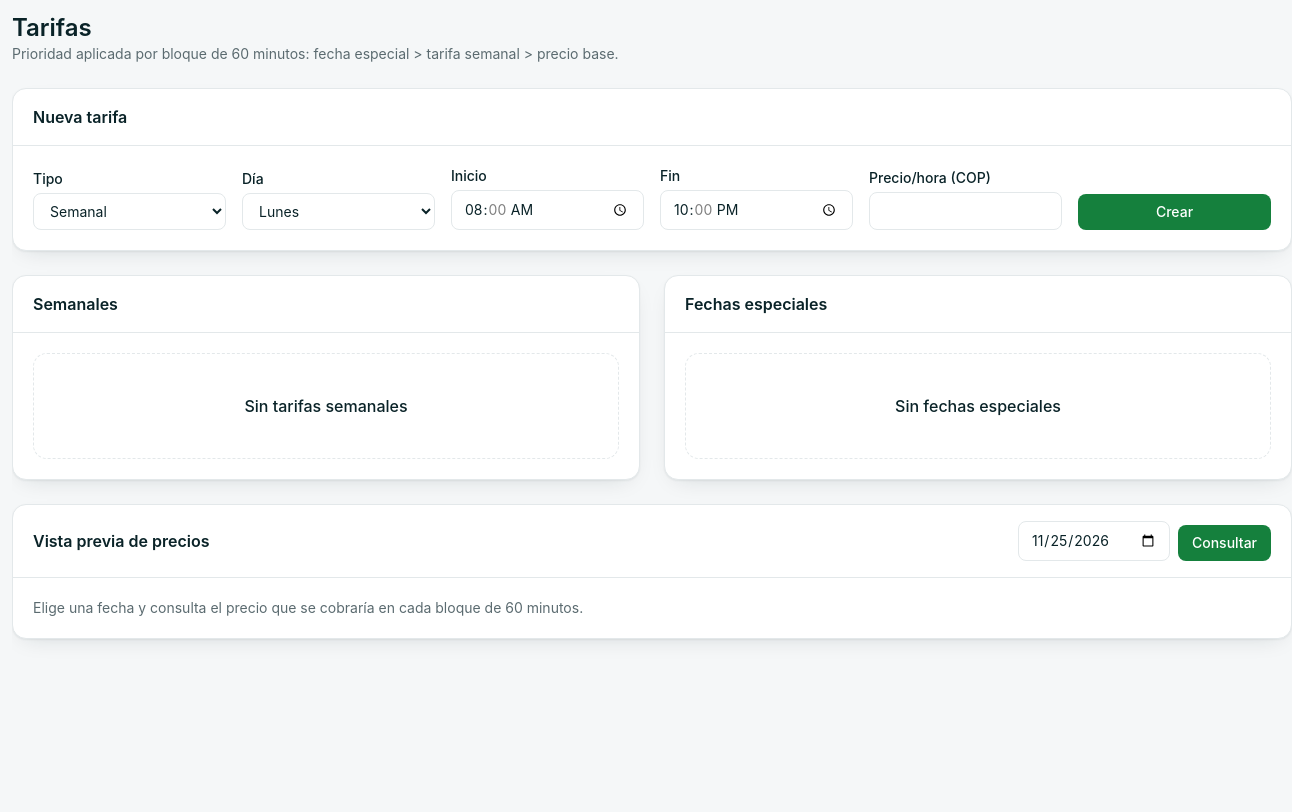
Test: TarifasPage › muestra la vista previa con el origen del precio
Click the button "Consultar".
click(1224, 543)  # box 1178,525 -> 1271,561
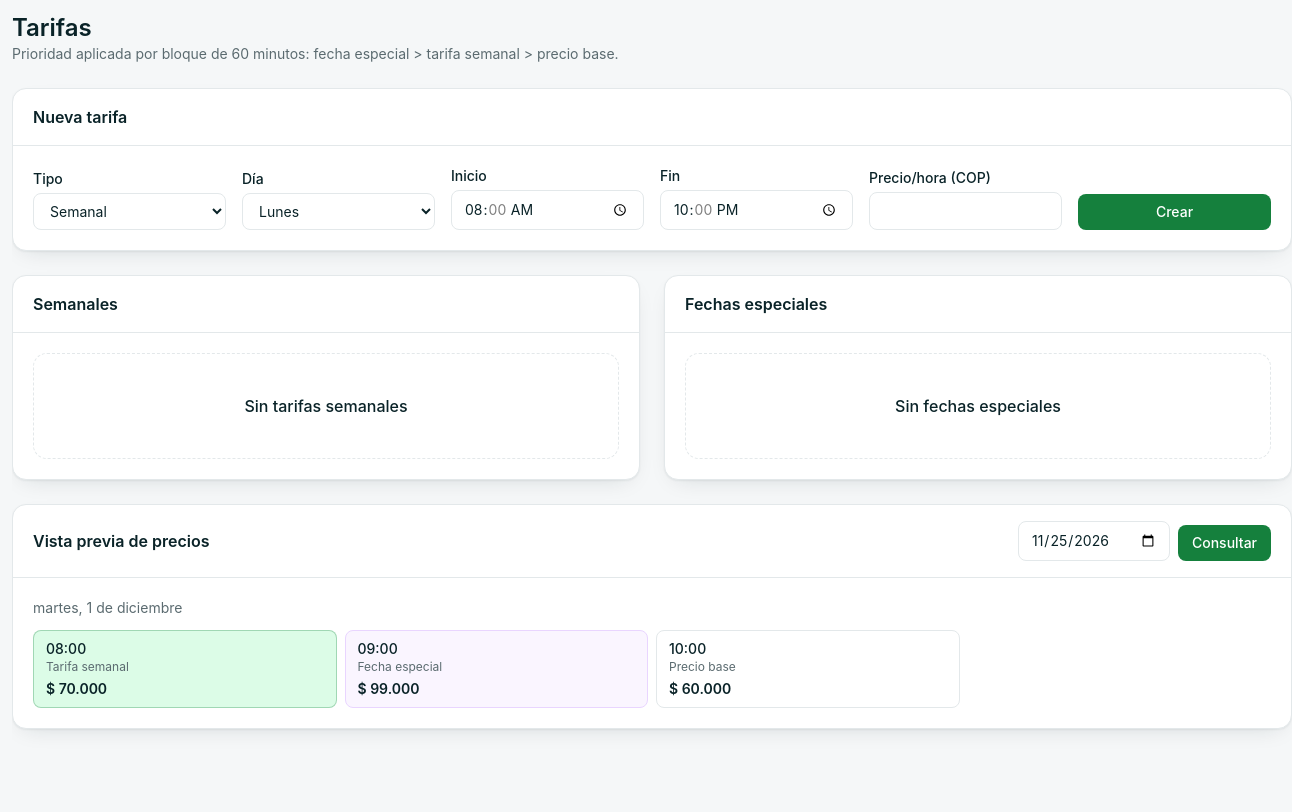
Result: the text "Tarifa semanal" is shown at 46,659 -> 129,674
Result: the text "Fecha especial" is shown at 358,659 -> 442,674
Result: the text "Precio base" is shown at 669,659 -> 736,674
